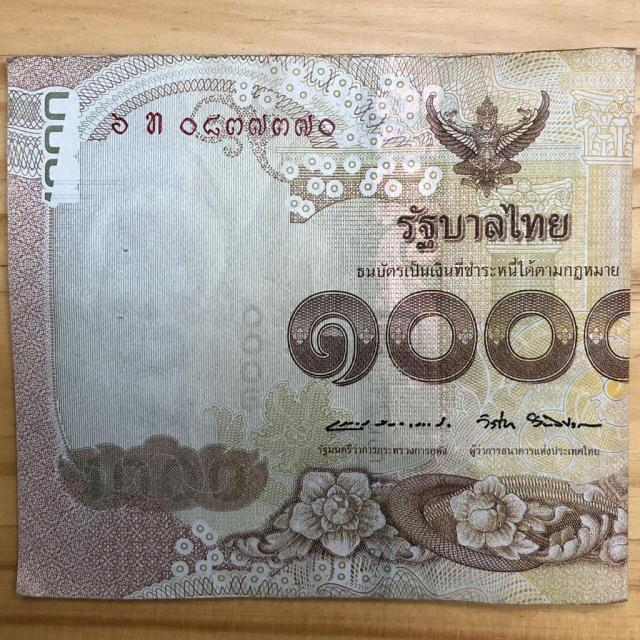THAI1000: (8, 48, 634, 604)
